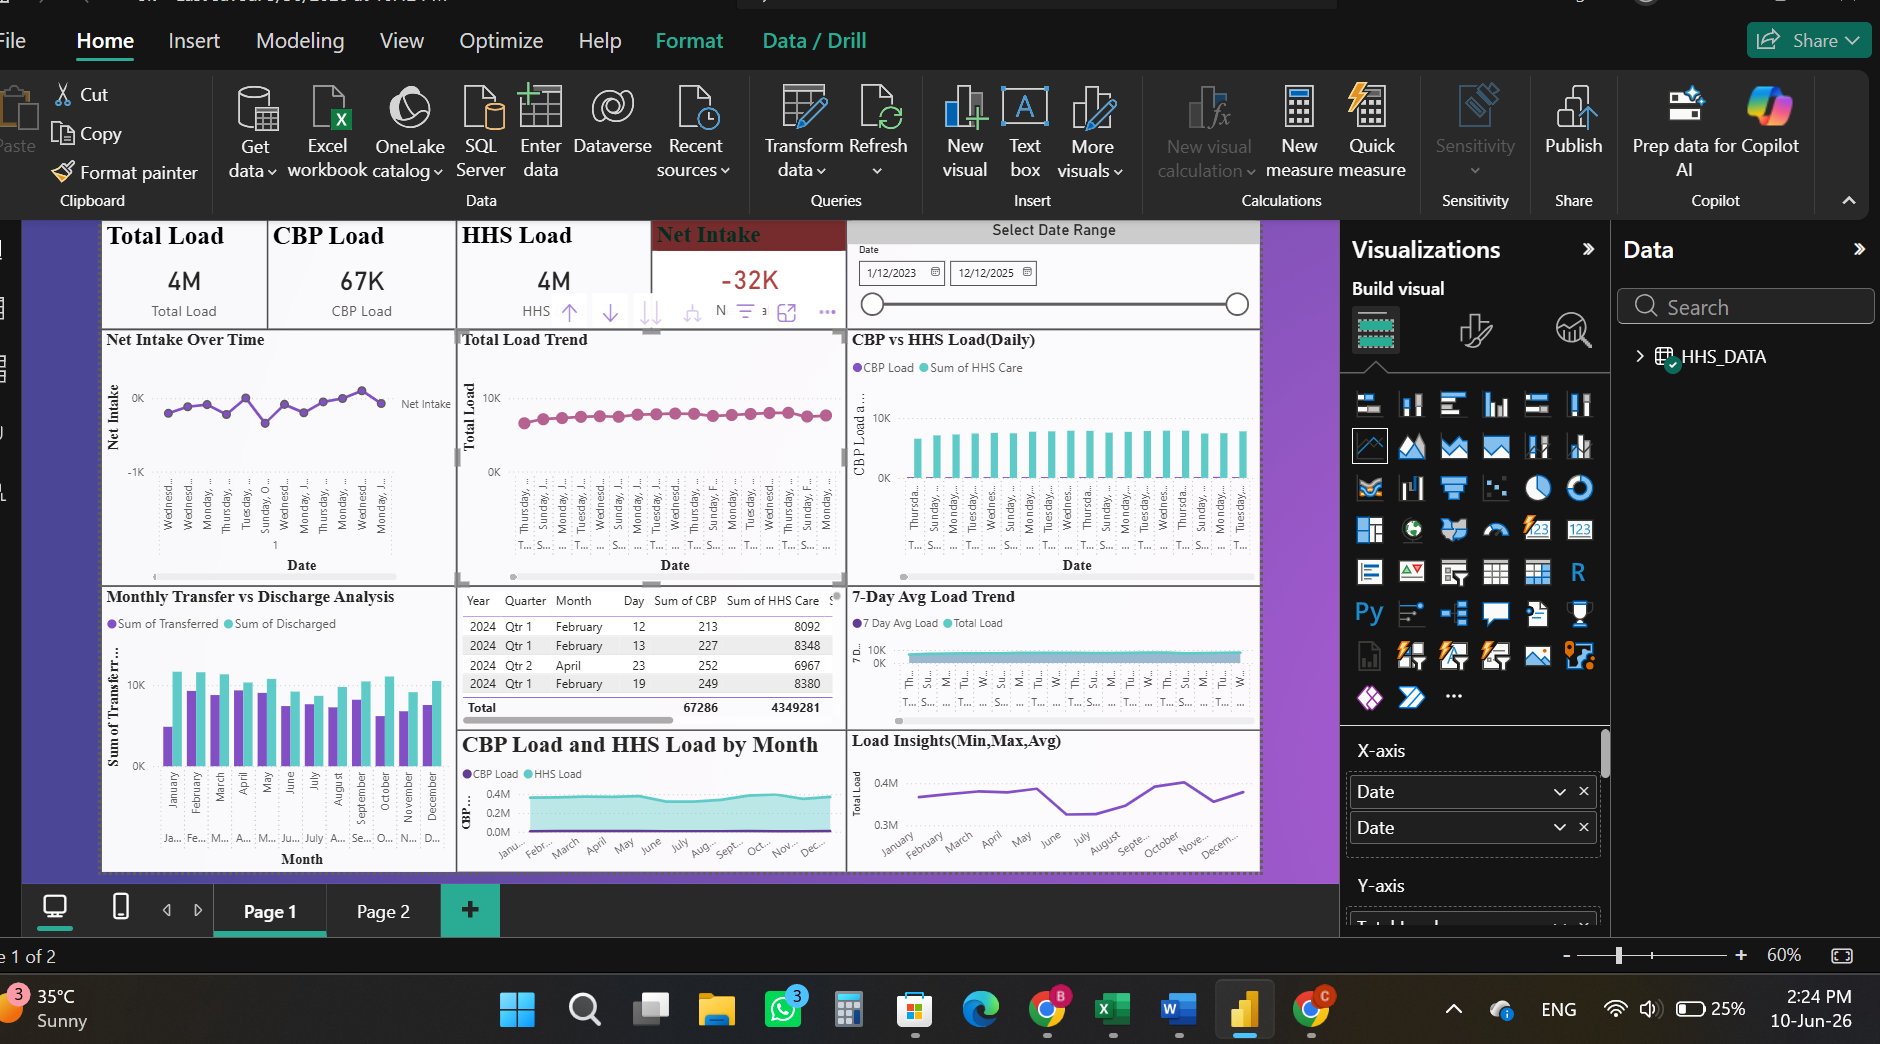

This screenshot's page, from the dashboard's own definition file:
{"tool":"powerbi","page":{"name":"Page 1","canvas":[1280,720],"ordinal":0},"visuals":[{"type":"lineChart","title":"Total Load Trend","fields":{"Y":["HHS_Unaccompanied_Alien_Children_Program.Total Load"],"Category":["HHS_DATA.Date","HHS_DATA.Date"]},"box":[392.6,120.9,430.7,283.3],"z":0},{"type":"clusteredColumnChart","title":"CBP vs HHS Load(Daily)","fields":{"Y":["HHS_Unaccompanied_Alien_Children_Program.CBP Load","Sum(HHS_Unaccompanied_Alien_Children_Program.HHS Care)"],"Category":["HHS_DATA.Date","HHS_DATA.Date"]},"box":[823.3,120.9,457.2,283.3],"z":1000},{"type":"card","title":"Total Load","fields":{"Values":["HHS_Unaccompanied_Alien_Children_Program.Total Load"]},"box":[0,0,183.9,120.9],"z":2000},{"type":"card","title":"CBP Load","fields":{"Values":["HHS_Unaccompanied_Alien_Children_Program.CBP Load"]},"box":[183.9,0,208.7,120.9],"z":3000},{"type":"card","title":"HHS Load","fields":{"Values":["HHS_Unaccompanied_Alien_Children_Program.HHS Load"]},"box":[392.6,0,215.3,120.9],"z":4000},{"type":"card","title":"Net Intake","fields":{"Values":["HHS_Unaccompanied_Alien_Children_Program.Net Intake"]},"box":[607.9,0,215.3,120.9],"z":5000},{"type":"lineChart","title":"Net Intake Over Time","fields":{"Y":["HHS_Unaccompanied_Alien_Children_Program.Net Intake"],"Category":["HHS_DATA.Date.Variation.Date Hierarchy.Day","HHS_DATA.Date"]},"box":[0,120.9,392.6,283.3],"z":6000},{"type":"clusteredColumnChart","title":"Monthly Transfer vs Discharge Analysis","fields":{"Category":["HHS_Unaccompanied_Alien_Children_Program.Date.Variation.Date Hierarchy.Month","HHS_Unaccompanied_Alien_Children_Program.Date.Variation.Date Hierarchy.Day","HHS_DATA.Date.Variation.Date Hierarchy.Year","HHS_Unaccompanied_Alien_Children_Program.Date.Variation.Date Hierarchy.Quarter","HHS_Unaccompanied_Alien_Children_Program.Date.Variation.Date Hierarchy.Month","HHS_Unaccompanied_Alien_Children_Program.Date.Variation.Date Hierarchy.Day"],"Y":["Sum(HHS_Unaccompanied_Alien_Children_Program.Transferred)","Sum(HHS_Unaccompanied_Alien_Children_Program.Discharged)"]},"box":[0,404.2,392.6,316.4],"z":7000},{"type":"areaChart","fields":{"Y":["HHS_Unaccompanied_Alien_Children_Program.CBP Load","HHS_Unaccompanied_Alien_Children_Program.HHS Load"],"Category":["HHS_DATA.Date.Variation.Date Hierarchy.Month","HHS_DATA.Date.Variation.Date Hierarchy.Day"]},"box":[392.6,563.2,430.7,157.4],"z":8000},{"type":"tableEx","fields":{"Values":["HHS_DATA.Date.Variation.Date Hierarchy.Year","HHS_DATA.Date.Variation.Date Hierarchy.Quarter","HHS_DATA.Date.Variation.Date Hierarchy.Month","HHS_DATA.Date.Variation.Date Hierarchy.Day","Sum(HHS_DATA.CBP)","Sum(HHS_DATA.HHS Care)","Sum(HHS_DATA.Discharged)","Sum(HHS_DATA.Transferred)","HHS_DATA.Net Intake"]},"box":[392.6,404.2,430.7,159],"z":9000},{"type":"slicer","title":"Select Date Range","fields":{"Values":["HHS_DATA.Date"]},"box":[823.3,0,457.2,120.9],"z":10000},{"type":"areaChart","title":"7-Day Avg Load Trend","fields":{"Category":["HHS_DATA.Date","HHS_DATA.Date"],"Y":["HHS_DATA.7 Day Avg Load","HHS_DATA.Total Load"]},"box":[823.3,404.2,457.2,159],"z":11000},{"type":"lineChart","title":"Load Insights(Min,Max,Avg)","fields":{"Category":["HHS_DATA.Date.Variation.Date Hierarchy.Month","HHS_DATA.Date.Variation.Date Hierarchy.Day"],"Y":["HHS_DATA.Total Load"]},"box":[823.3,563.2,457.2,157.4],"z":12000}]}

Visuals, with their boxes on the page's 1280x720 design canvas (x1, y1, x2, y2). These are canvas units, not pixel positions in the 1880x1044 screenshot, which may show the page scaled, cropped or inside an application window:
"Total Load Trend" lineChart: (x1=393, y1=121, x2=823, y2=404)
"CBP vs HHS Load(Daily)" clusteredColumnChart: (x1=823, y1=121, x2=1280, y2=404)
"Total Load" card: (x1=0, y1=0, x2=184, y2=121)
"CBP Load" card: (x1=184, y1=0, x2=393, y2=121)
"HHS Load" card: (x1=393, y1=0, x2=608, y2=121)
"Net Intake" card: (x1=608, y1=0, x2=823, y2=121)
"Net Intake Over Time" lineChart: (x1=0, y1=121, x2=393, y2=404)
"Monthly Transfer vs Discharge Analysis" clusteredColumnChart: (x1=0, y1=404, x2=393, y2=721)
areaChart - HHS_Unaccompanied_Alien_Children_Program.CBP Load x HHS_Unaccompanied_Alien_Children_Program.HHS Load: (x1=393, y1=563, x2=823, y2=721)
tableEx - HHS_DATA.Date.Variation.Date Hierarchy.Year x HHS_DATA.Date.Variation.Date Hierarchy.Quarter: (x1=393, y1=404, x2=823, y2=563)
"Select Date Range" slicer: (x1=823, y1=0, x2=1280, y2=121)
"7-Day Avg Load Trend" areaChart: (x1=823, y1=404, x2=1280, y2=563)
"Load Insights(Min,Max,Avg)" lineChart: (x1=823, y1=563, x2=1280, y2=721)
